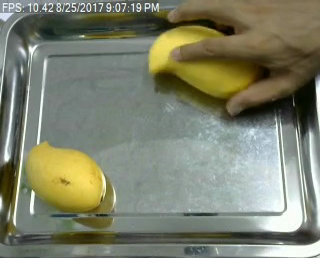Mango: (148, 25, 258, 101), (23, 138, 107, 214)
